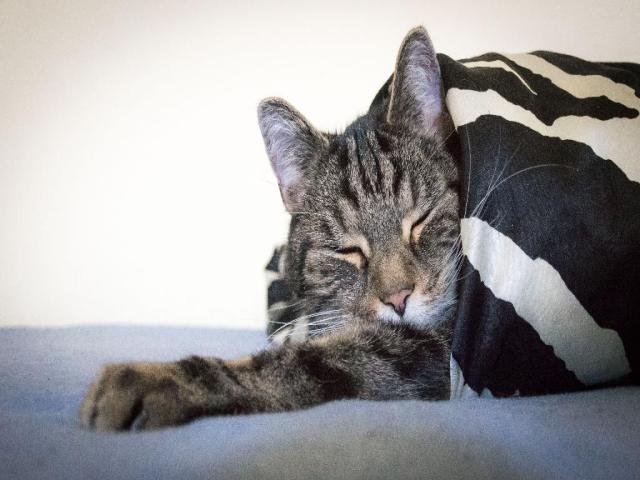Cat: (84, 20, 567, 435)
